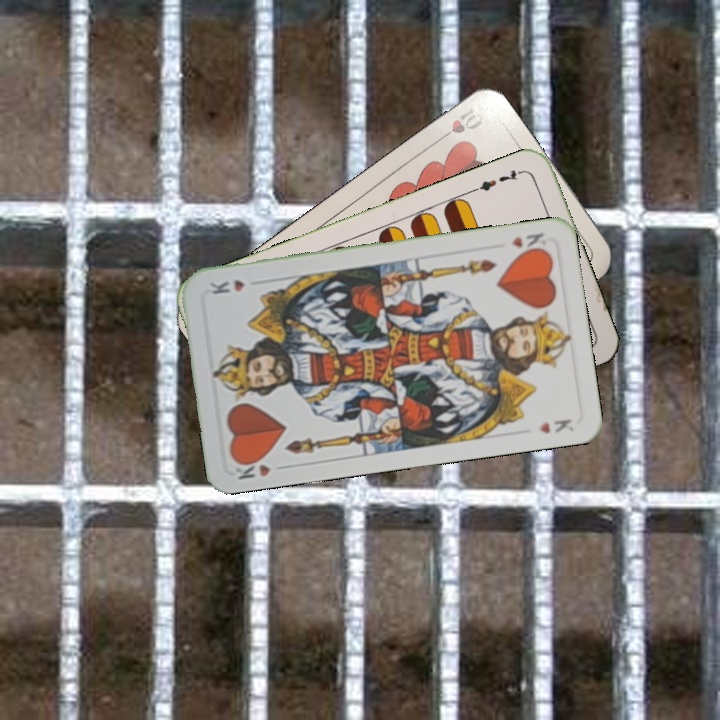E7: (470, 165, 527, 194)
H10: (432, 100, 486, 146)
HK: (231, 453, 290, 483), (507, 228, 552, 257)
